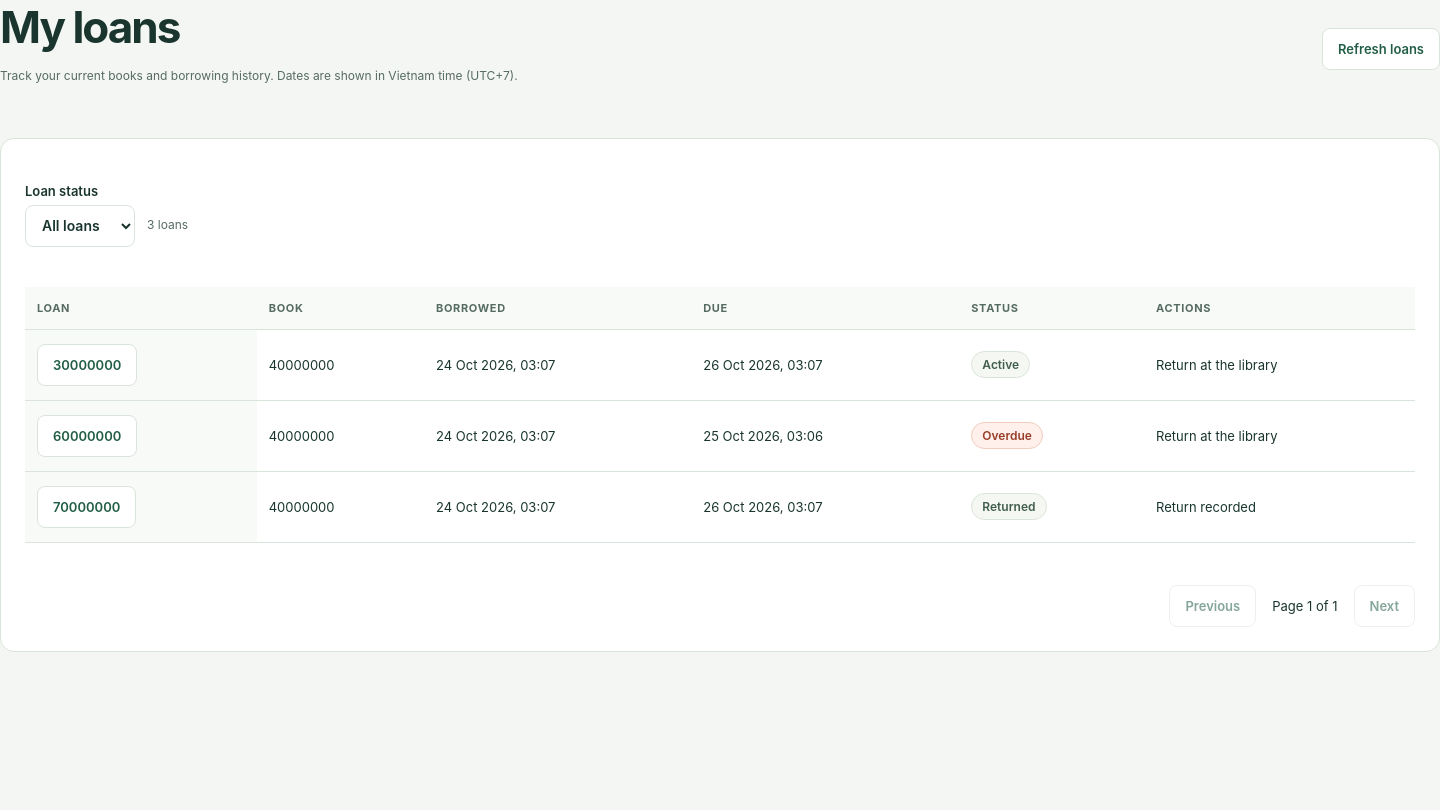
Test: loan history › shows member statuses, Vietnam dates and details without staff return actions
Expected: the heading "My loans" is shown, [0, 0, 179, 54]
Expected: the text "Overdue" is shown, [971, 422, 1043, 449]
Click the button named "View loan 30000000" at (87, 365), box [37, 344, 137, 386]
(page scrolled)
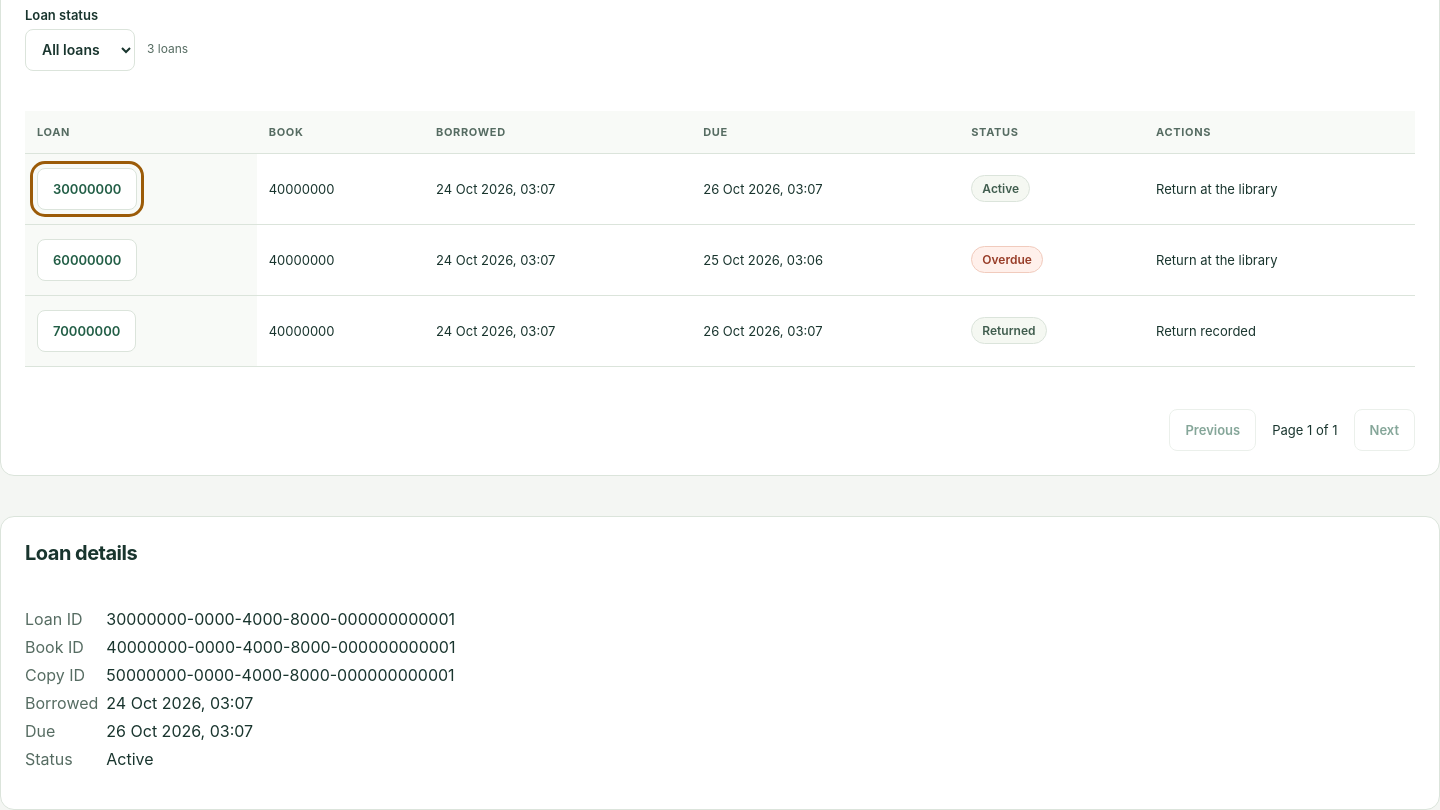
Expected: the text "50000000-0000-4000-8000-000000000001" is shown, [106, 665, 455, 685]
